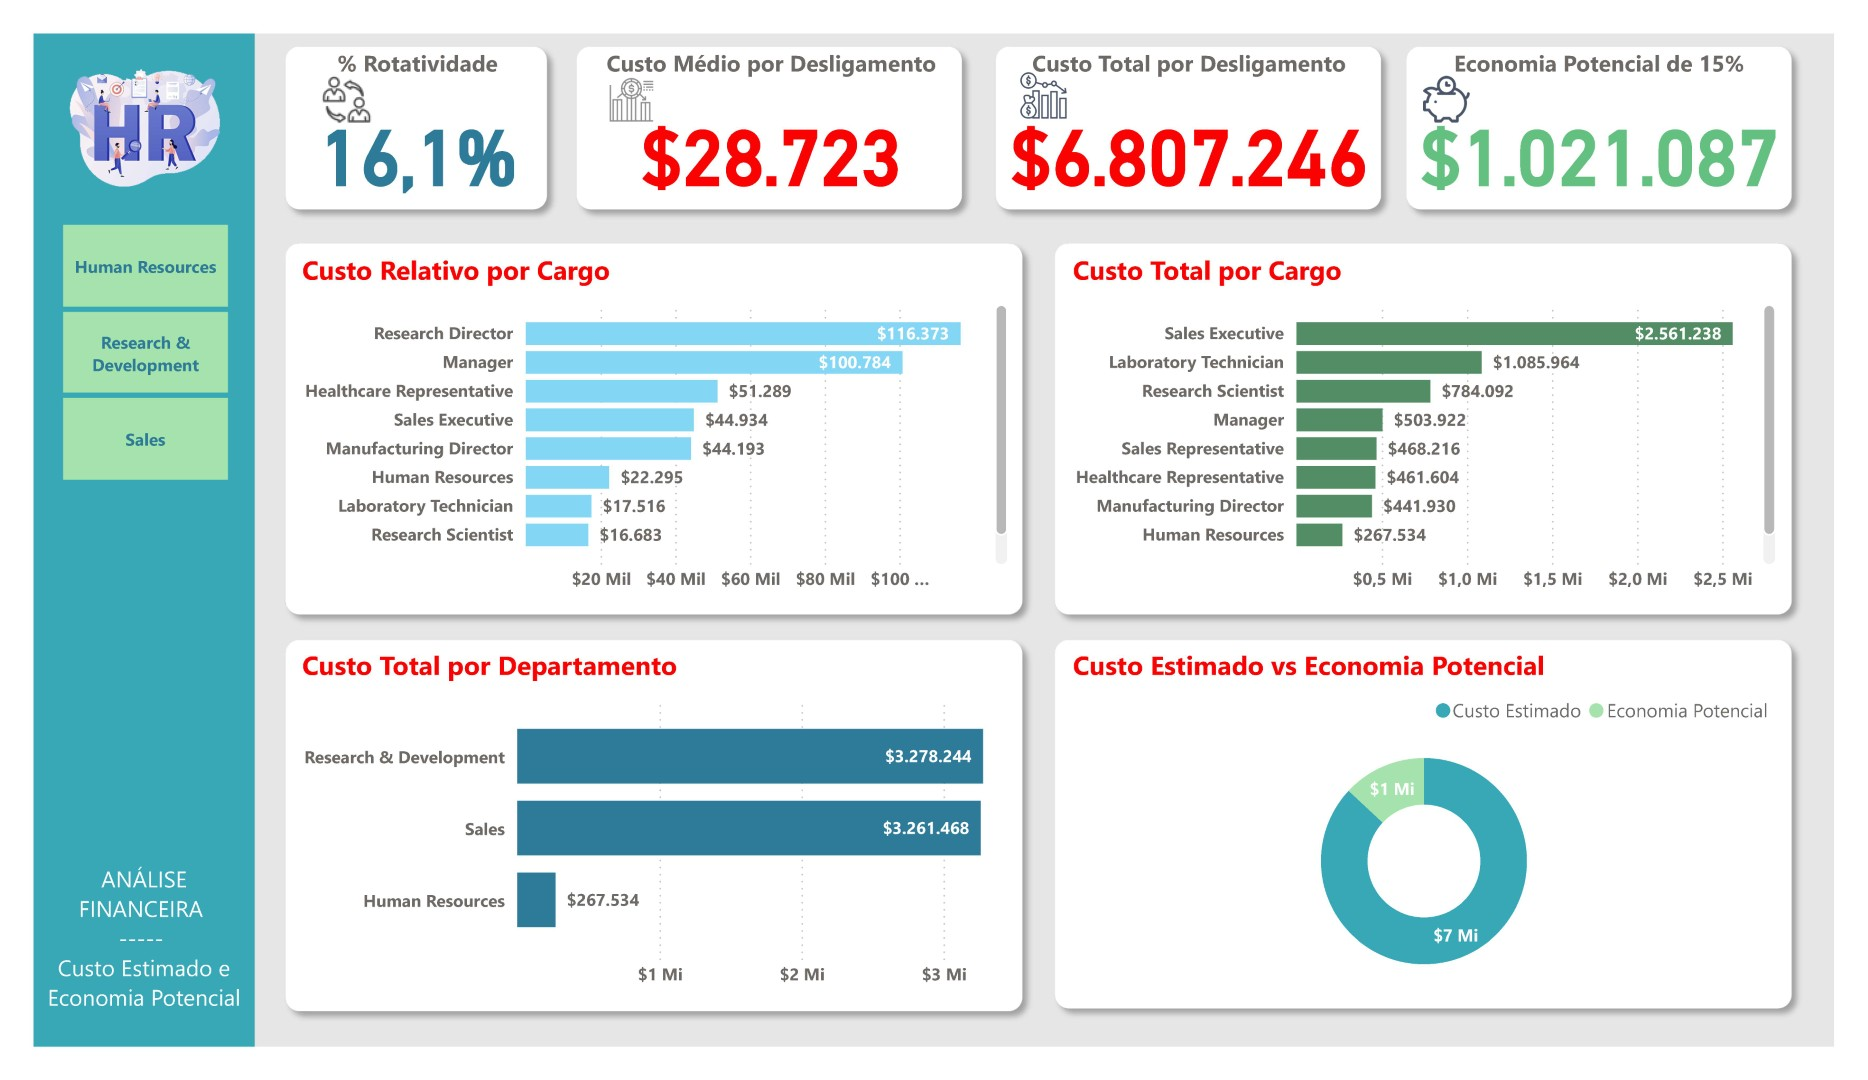

The dashboard page shown, as its layout file describes it:
{"tool":"powerbi","page":{"name":"Análise Financeira","canvas":[1280,720],"ordinal":3},"visuals":[{"type":"shape","box":[170,140,541.8,281.8],"z":0},{"type":"shape","box":[717.3,421.8,541.8,280],"z":1000},{"type":"shape","box":[170,421.8,541.8,281.8],"z":2000},{"type":"shape","box":[717.3,140,541.8,281.8],"z":3000},{"type":"shape","box":[675.5,0,291.8,133.6],"z":4000},{"type":"shape","box":[170,0,203.6,133.6],"z":5000},{"type":"shape","box":[967.3,0,291.8,133.6],"z":6000},{"type":"shape","box":[377,0,291.8,133.6],"z":7000},{"type":"shape","box":[0,0,156.9,720.1],"z":8000},{"type":"slicer","fields":{"Values":["HR.departamento"]},"box":[0,134,157,185],"z":9000},{"type":"textbox","box":[0,585.5,157.3,116.4],"z":10000},{"type":"image","box":[20,0,118,134],"z":11000},{"type":"card","title":"Economia Potencial de 15%","fields":{"Values":["HR.Economia de até 15%"]},"box":[977.3,10,271.8,117.3],"z":12000},{"type":"card","title":"Custo Total por Desligamento","fields":{"Values":["HR.Custo Estimado de Rotatividade"]},"box":[684.5,10,273.6,117.3],"z":13000},{"type":"card","title":"Custo Médio por Desligamento","fields":{"Values":["HR.Custo Médio por Desligamento"]},"box":[385.5,10,278.2,117.3],"z":14000},{"type":"card","title":"% Rotatividade","fields":{"Values":["HR.Taxa de Rotatividade"]},"box":[180,10,186.4,117.3],"z":15000},{"type":"clusteredBarChart","title":"Custo Total por Departamento","fields":{"Category":["HR.departamento"],"Y":["HR.Custo Estimado de Rotatividade"]},"box":[186.4,436.4,510.9,250.9],"z":16000},{"type":"clusteredBarChart","title":"Custo Total por Cargo","fields":{"Category":["HR.funcao"],"Y":["HR.Custo Estimado de Rotatividade"]},"box":[733.6,154.5,509.1,251.8],"z":17000},{"type":"clusteredBarChart","title":"Custo Relativo por Cargo","fields":{"Category":["HR.funcao"],"Y":["HR.Custo Médio por Desligamento"]},"box":[186.4,155.5,510.9,250.9],"z":18000},{"type":"donutChart","title":"Custo Estimado vs Economia Potencial","fields":{"Y":["HR.Custo Estimado de Rotatividade","HR.Economia Potencial (15%)"]},"box":[733.6,436.4,509.1,250.9],"z":19000},{"type":"image","box":[198.2,23.6,48.2,46.4],"z":20000},{"type":"image","box":[402.7,26.4,44.5,41.8],"z":21000},{"type":"image","box":[696.4,20,43.6,48.2],"z":22000},{"type":"image","box":[982.7,22.7,43.6,46.4],"z":23000}]}

Visuals, with their boxes in screenshot pixels (x1, y1, x2, y2), scaled from the page's 1280x720 canvas onto the 1868x1080 screenshot:
shape: [left=248, top=210, right=1039, bottom=633]
shape: [left=1047, top=633, right=1837, bottom=1053]
shape: [left=248, top=633, right=1039, bottom=1055]
shape: [left=1047, top=210, right=1837, bottom=633]
shape: [left=986, top=0, right=1412, bottom=200]
shape: [left=248, top=0, right=545, bottom=200]
shape: [left=1412, top=0, right=1837, bottom=200]
shape: [left=550, top=0, right=976, bottom=200]
shape: [left=0, top=0, right=229, bottom=1079]
slicer - HR.departamento: [left=0, top=201, right=229, bottom=478]
textbox: [left=0, top=878, right=230, bottom=1053]
image: [left=29, top=0, right=201, bottom=201]
"Economia Potencial de 15%" card: [left=1426, top=15, right=1823, bottom=191]
"Custo Total por Desligamento" card: [left=999, top=15, right=1398, bottom=191]
"Custo Médio por Desligamento" card: [left=563, top=15, right=969, bottom=191]
"% Rotatividade" card: [left=263, top=15, right=535, bottom=191]
"Custo Total por Departamento" clusteredBarChart: [left=272, top=655, right=1018, bottom=1031]
"Custo Total por Cargo" clusteredBarChart: [left=1071, top=232, right=1814, bottom=609]
"Custo Relativo por Cargo" clusteredBarChart: [left=272, top=233, right=1018, bottom=610]
"Custo Estimado vs Economia Potencial" donutChart: [left=1071, top=655, right=1814, bottom=1031]
image: [left=289, top=35, right=360, bottom=105]
image: [left=588, top=40, right=653, bottom=102]
image: [left=1016, top=30, right=1080, bottom=102]
image: [left=1434, top=34, right=1498, bottom=104]
